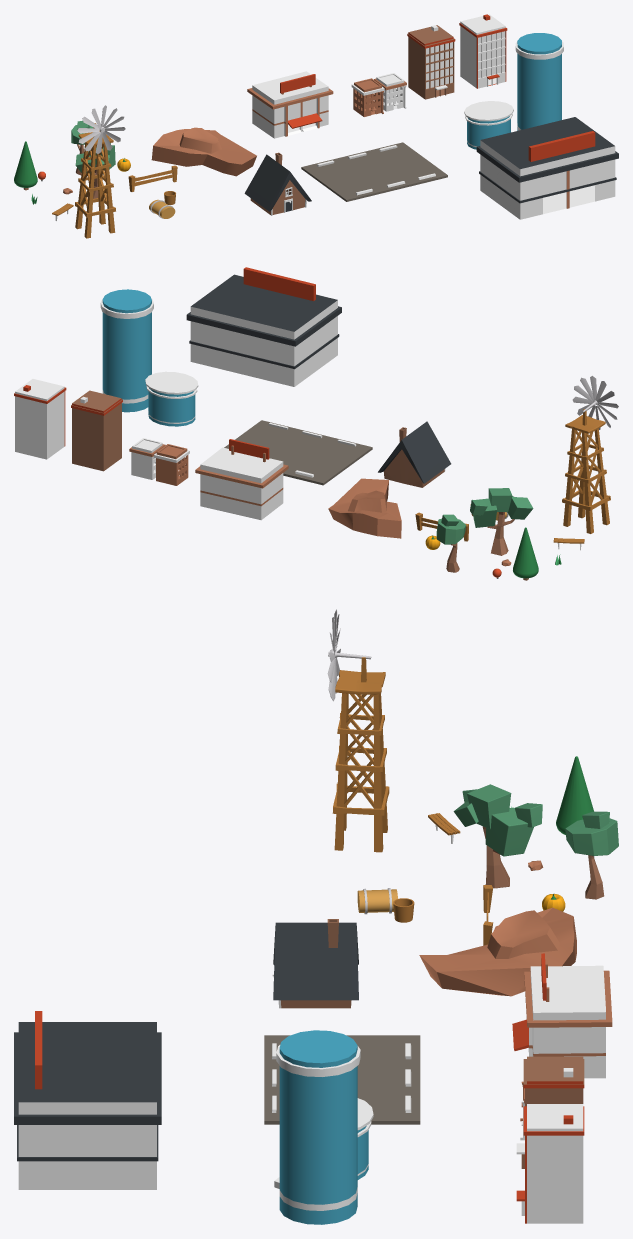
The model's file is level1.asset.fbx.
3 views of the same model, one above another, from view 1: azimuth 30°, elevation 25°; view 2: azimuth 150°, elevation 25°; view 3: azimuth 270°, elevation 25° (orthographic). The views are drawn at different scales.
Visible parts, largest first — view 1: pasted__pasted__pCube251, pasted__pasted__pPlane13, pasted__pasted__pCylinder5, pasted__pasted__pCube240, pasted__pasted__pCube197, pasted__pasted__pCube252, pasted__pasted__pCube255, pasted__pasted__pCube112, pasted__pasted__house3, pasted__pasted__pCylinder6, pasted__pasted__pCube212, pasted__pasted__pCube213 (+3 smaller); view 2: pasted__pasted__pCube251, pasted__pasted__pCylinder5, pasted__pasted__pCube240, pasted__pasted__pPlane13, pasted__pasted__pCube252, pasted__pasted__pCube255, pasted__pasted__pCube112, pasted__pasted__pCube197, pasted__pasted__house3, pasted__pasted__pCylinder6, pasted__pasted__pCube212, pasted__pasted__pCube213 (+7 smaller); view 3: pasted__pasted__pCube251, pasted__pasted__pCylinder5, pasted__pasted__pCube240, pasted__pasted__pCube197, pasted__pasted__pCube252, pasted__pasted__house3, pasted__pasted__pPlane13, pasted__pasted__pCube112, pasted__pasted__pCube255, pasted__pasted__pCube52, pasted__pasted__pCube62, pasted__pasted__pCone89 (+3 smaller).
Part boxes in pixels (box(x1,y1,x2,y2)): pasted__pasted__pCube251: box(476, 117, 618, 219); pasted__pasted__pPlane13: box(301, 142, 447, 201); pasted__pasted__pCylinder5: box(515, 33, 563, 130); pasted__pasted__pCube240: box(247, 71, 333, 138); pasted__pasted__pCube197: box(151, 127, 256, 176); pasted__pasted__pCube252: box(459, 14, 507, 88); pasted__pasted__pCube255: box(407, 25, 455, 99); pasted__pasted__pCube112: box(75, 123, 115, 238); pasted__pasted__house3: box(244, 152, 311, 215); pasted__pasted__pCylinder6: box(464, 101, 513, 149); pasted__pasted__pCube212: box(351, 78, 384, 116); pasted__pasted__pCube213: box(374, 73, 406, 111); pasted__pasted__pCube251: box(186, 267, 341, 386); pasted__pasted__pCylinder5: box(100, 289, 153, 412); pasted__pasted__pCube240: box(195, 447, 288, 520); pasted__pasted__pPlane13: box(224, 420, 372, 485); pasted__pasted__pCube252: box(14, 379, 66, 459); pasted__pasted__pCube255: box(71, 390, 122, 471); pasted__pasted__pCube112: box(562, 409, 610, 533); pasted__pasted__pCube197: box(328, 478, 401, 538); pasted__pasted__house3: box(378, 421, 451, 487); pasted__pasted__pCylinder6: box(145, 371, 198, 426); pasted__pasted__pCube212: box(154, 444, 189, 485); pasted__pasted__pCube213: box(129, 438, 165, 479); pasted__pasted__pCube251: box(14, 1011, 161, 1189); pasted__pasted__pCylinder5: box(274, 1030, 360, 1224); pasted__pasted__pCube240: box(512, 965, 612, 1078); pasted__pasted__pCube197: box(419, 907, 576, 996); pasted__pasted__pCube252: box(516, 1104, 584, 1223); pasted__pasted__house3: box(272, 919, 358, 1008); pasted__pasted__pPlane13: box(264, 1035, 420, 1124); pasted__pasted__pCube112: box(332, 657, 389, 852); pasted__pasted__pCube255: box(516, 1056, 584, 1168); pasted__pasted__pCube52: box(485, 807, 533, 856); pasted__pasted__pCube62: box(565, 818, 618, 855); pasted__pasted__pCone89: box(556, 756, 593, 834).
Size of the model in its own units: 52.1 by 14.1 by 32.67.
